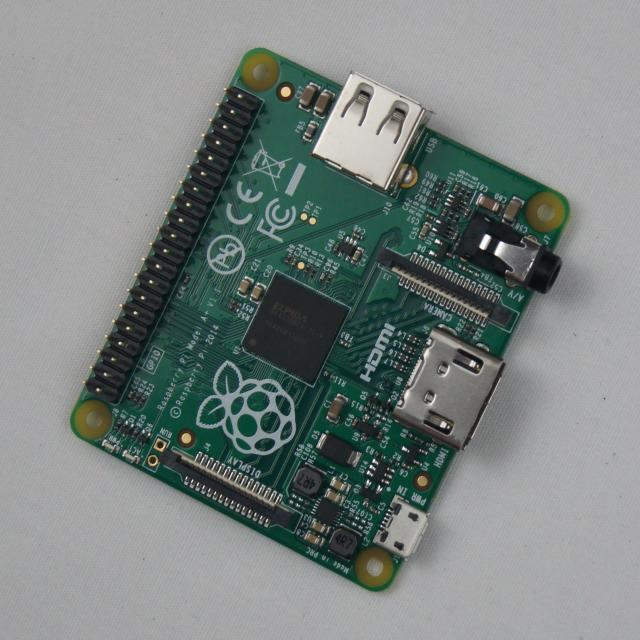Raspberry-Pi-1-A-: (72, 49, 569, 591)
